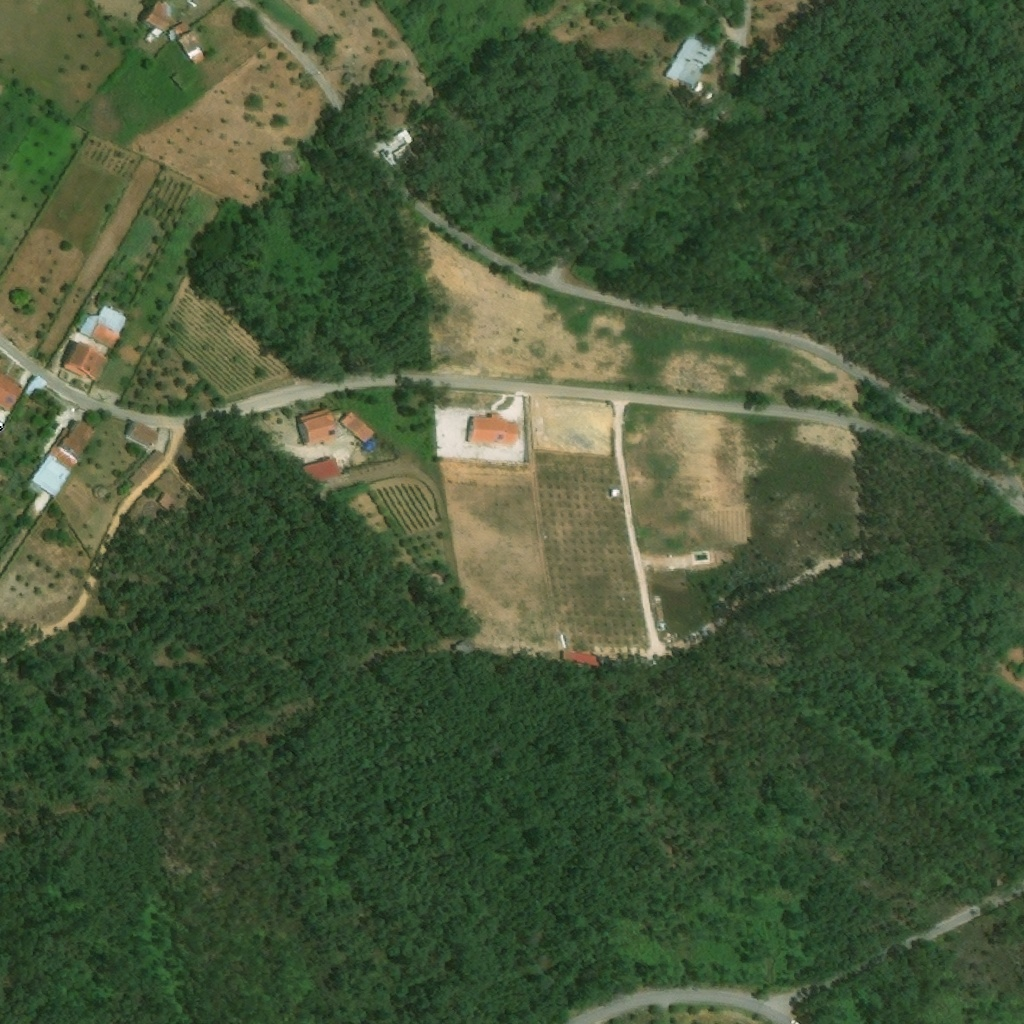0 no-damage: (30, 418, 96, 498), (662, 33, 718, 91), (75, 305, 127, 351), (59, 339, 109, 383), (462, 414, 519, 447), (293, 407, 337, 448), (127, 450, 167, 489), (336, 410, 374, 446), (141, 0, 174, 32), (177, 30, 204, 67), (0, 370, 23, 413), (124, 420, 158, 448), (24, 375, 48, 400), (164, 21, 188, 39), (154, 493, 175, 510)
